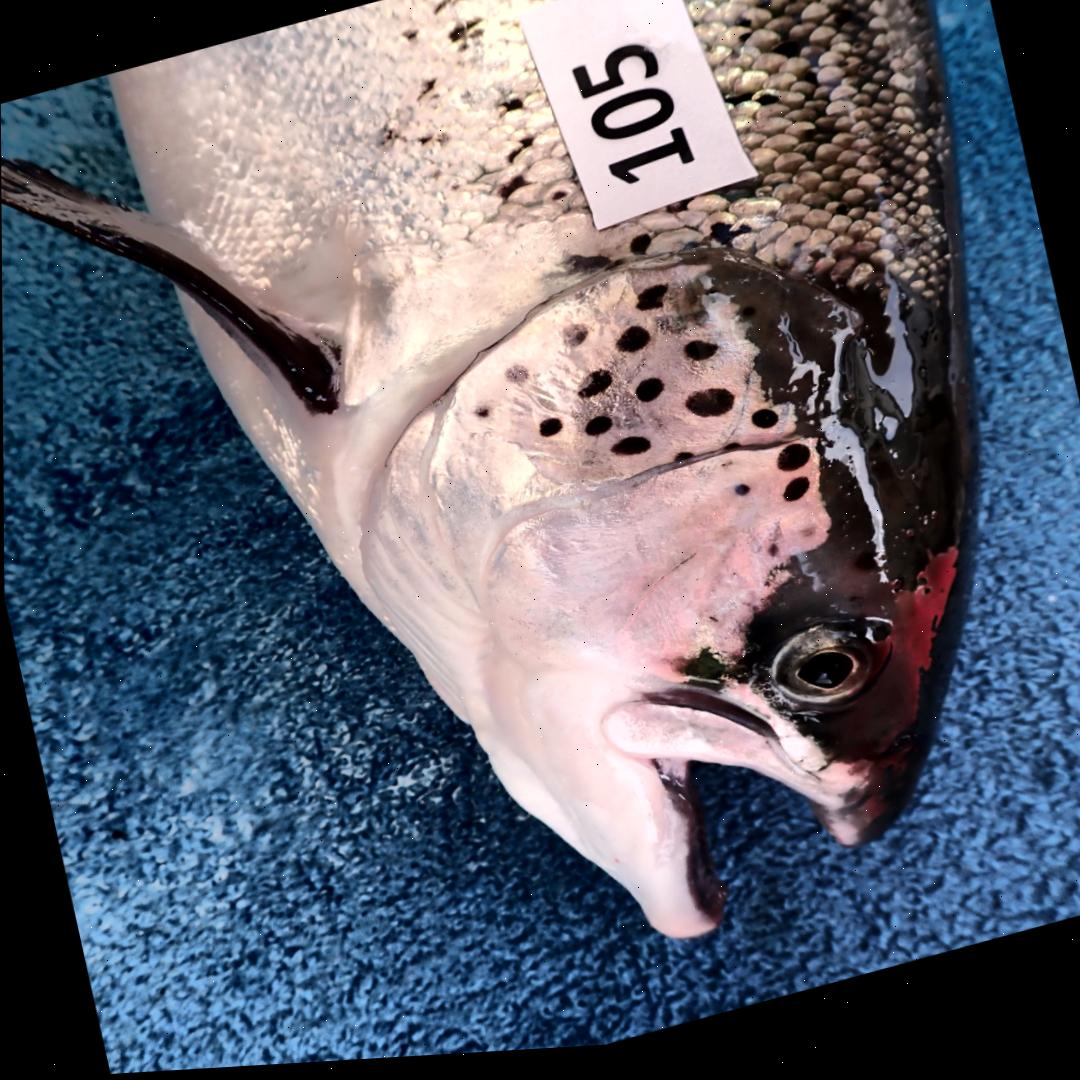spot: (684, 395, 734, 425), (577, 376, 612, 405), (775, 452, 810, 481), (616, 333, 650, 360), (636, 291, 668, 318), (610, 443, 650, 463), (682, 348, 717, 370), (781, 486, 810, 511), (635, 385, 664, 409), (750, 417, 779, 438), (583, 422, 611, 443), (563, 331, 587, 352), (538, 424, 561, 443), (505, 371, 527, 388), (733, 492, 748, 505), (674, 459, 693, 469), (739, 315, 755, 326), (722, 450, 741, 459), (766, 552, 778, 566), (477, 415, 488, 422)
